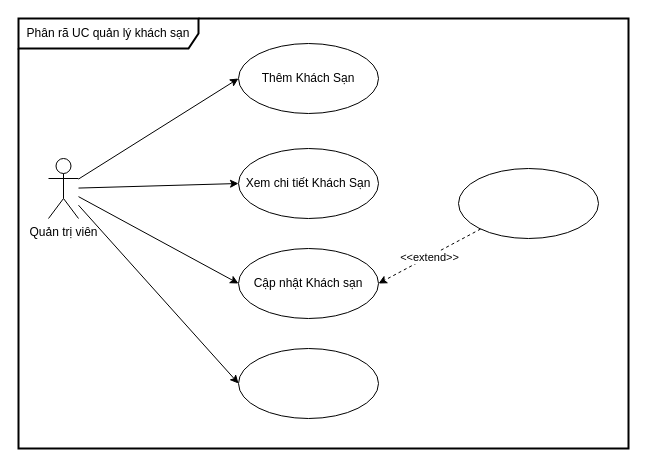
Some shapes in this 646 by 466 pixel diagram are drawn without their labels. Each missing label, with the centre of its shape:
"Quản lý phòng khách sạn" belongs at (528,203).
"Xóa Khách sạn" belongs at (308,383).
